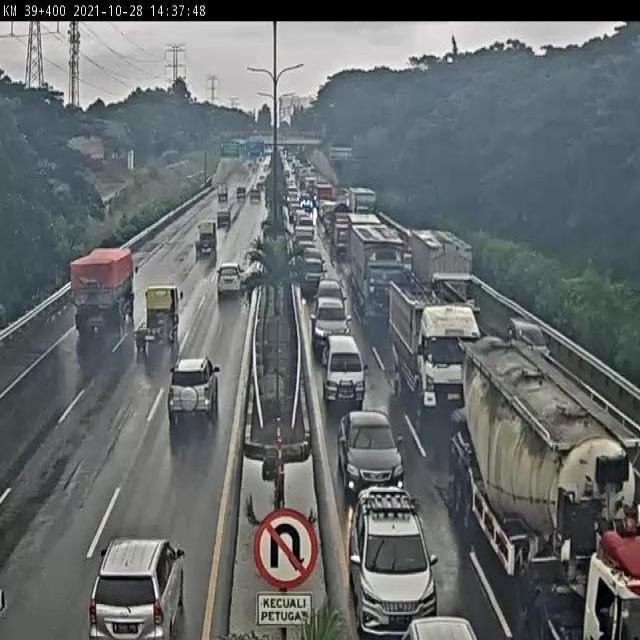car: (349, 490, 436, 630)
truck-l-: (389, 283, 478, 417), (405, 226, 477, 322), (346, 220, 408, 323), (71, 246, 135, 330)
truck-s-: (132, 286, 180, 354), (194, 224, 216, 260)
truck-xl-: (453, 337, 640, 640)
